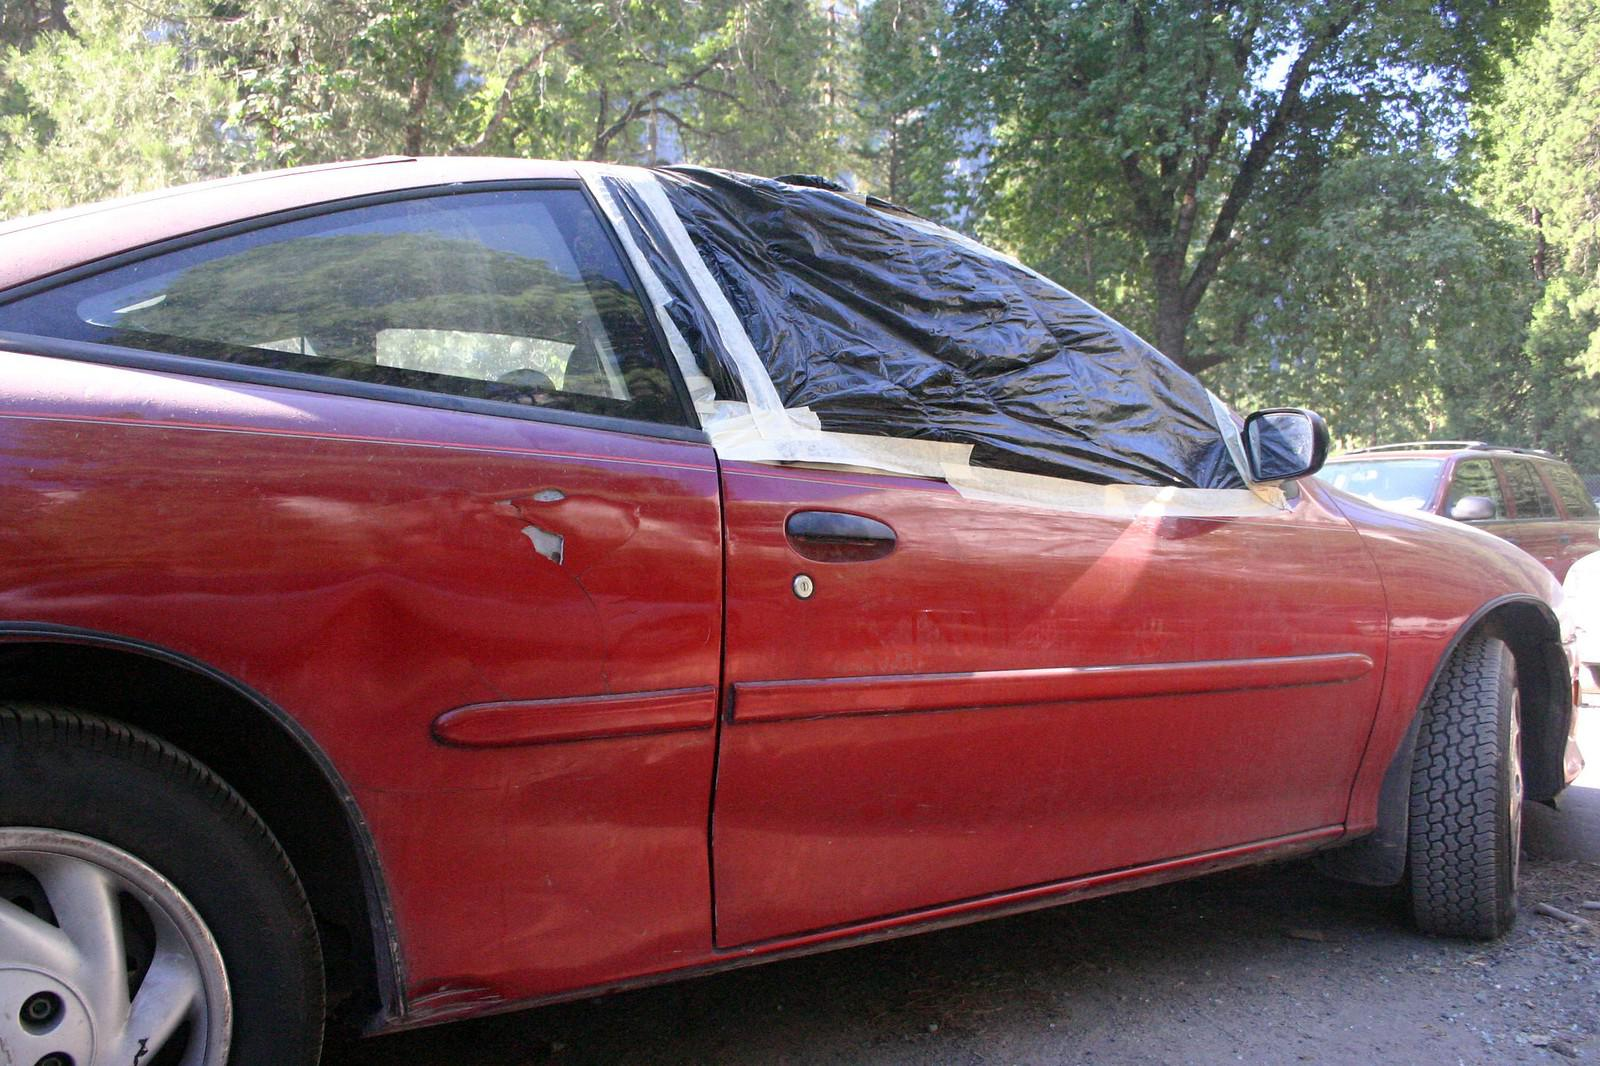doorouter-dent: (338, 424, 738, 993)
